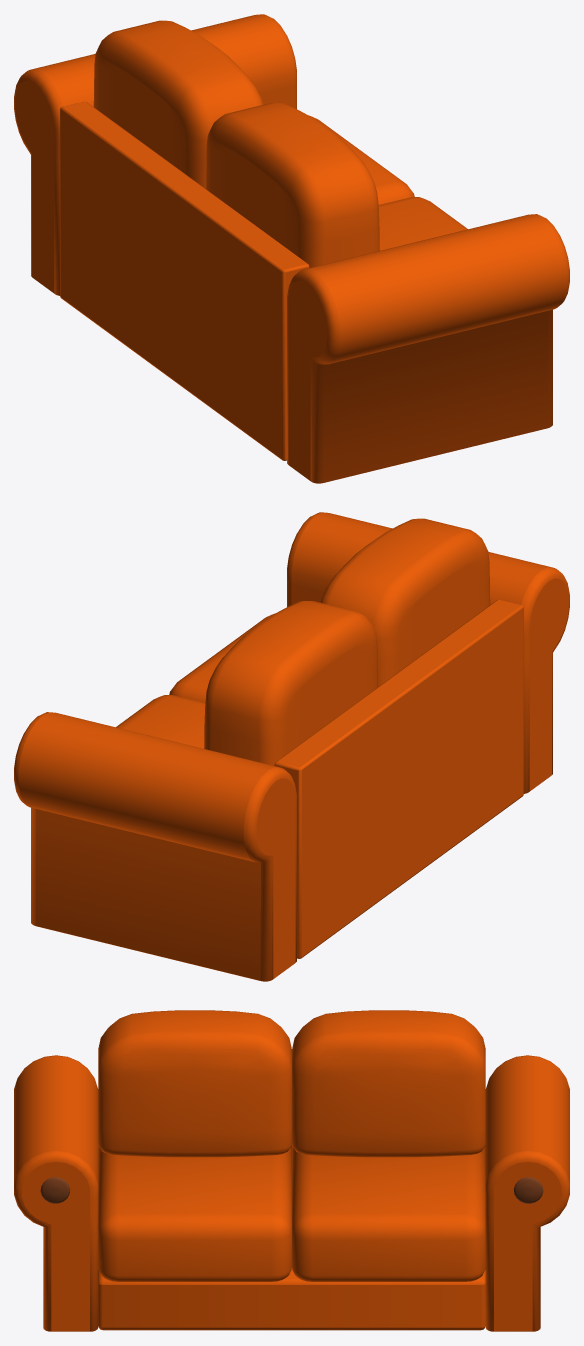
Rendered from Double_Couch.glb.
3 views of the same model, one above another, from view 1: azimuth 30°, elevation 25°; view 2: azimuth 150°, elevation 25°; view 3: azimuth 270°, elevation 25° (orthographic). The views are drawn at different scales.
Visible parts, largest first — view 1: Couch2; view 2: Couch2; view 3: Couch2.
Boxes of the visible parts, x1,y1,x2,y2 form: Couch2: (14, 14, 569, 483); Couch2: (14, 512, 569, 981); Couch2: (14, 1010, 569, 1331).
Size of the model in its own units: 1.16 by 1.2 by 2.56.
Materials: 2 (1 with a texture image).
